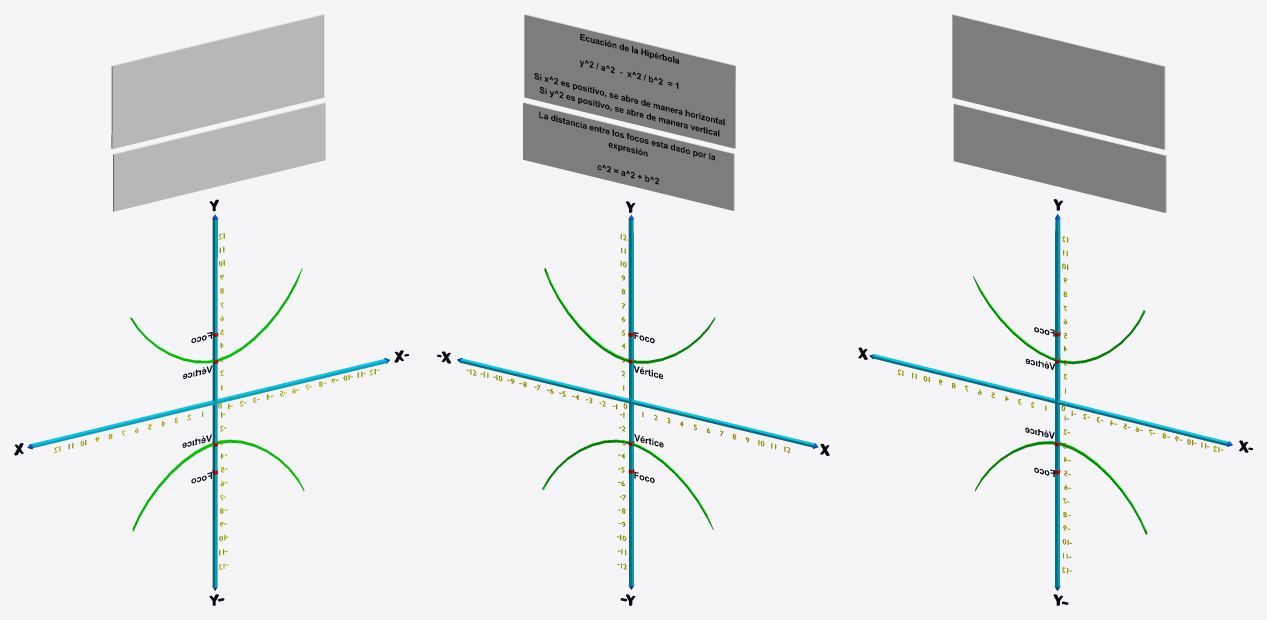
File: e-hiperbola.fbx
3 renders of one model, left to right at view 1: azimuth 30°, elevation 25°; view 2: azimuth 150°, elevation 25°; view 3: azimuth 330°, elevation 25°, orthographic.
Parts seen in each view (by area): view 1: Cubo.004, Cubo.002, Cubo.001, Cubo, Surface.001, Surface.003; view 2: Cubo.004, Cubo.002, Text.030, Cubo, Cubo.001, Text.025, Surface.003, Surface.001; view 3: Cubo.004, Cubo.002, Cubo.001, Cubo, Surface.001, Surface.003.
Part boxes in pixels (box(x1,y1,x2,y2)): Cubo.004: box(111, 14, 324, 148); Cubo.002: box(113, 102, 325, 211); Cubo.001: box(212, 219, 217, 587); Cubo: box(29, 359, 387, 447); Surface.001: box(132, 439, 304, 531); Surface.003: box(130, 268, 302, 363); Cubo.004: box(524, 14, 735, 148); Cubo.002: box(523, 102, 734, 210); Text.030: box(534, 33, 724, 136); Cubo: box(460, 358, 814, 447); Cubo.001: box(628, 220, 633, 586); Text.025: box(539, 111, 714, 184); Surface.003: box(544, 268, 715, 363); Surface.001: box(542, 439, 713, 529); Cubo.004: box(952, 14, 1165, 149); Cubo.002: box(953, 103, 1166, 212); Cubo.001: box(1055, 219, 1060, 587); Cubo: box(872, 354, 1228, 445); Surface.001: box(975, 441, 1147, 534); Surface.003: box(973, 276, 1145, 364).
Bounding box in the file's own units: 599 × 824 × 8.65.
